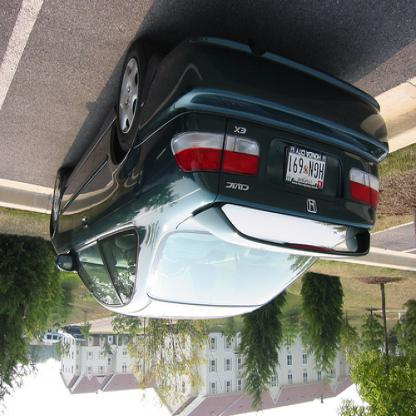car: (51, 37, 390, 322), (64, 327, 88, 341), (44, 329, 65, 344)
